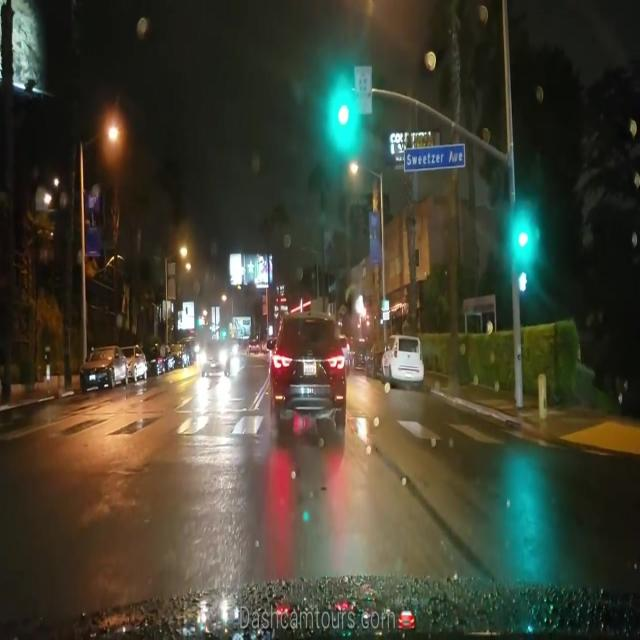Car: (268, 308, 343, 430), (382, 333, 421, 385), (80, 343, 125, 387)
